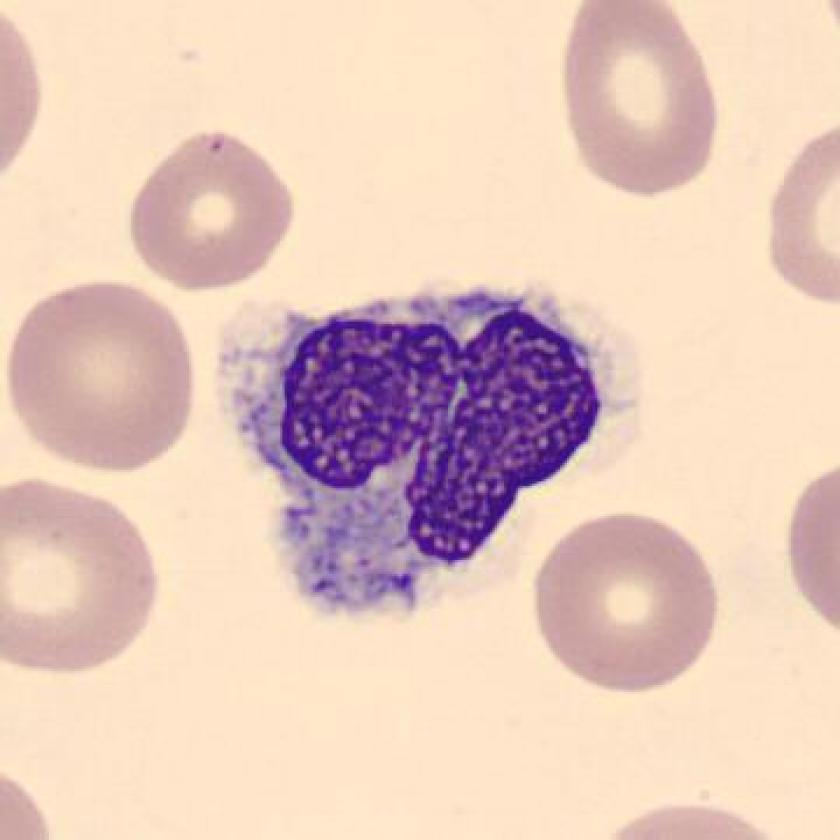monocyte: (192, 256, 652, 645)
